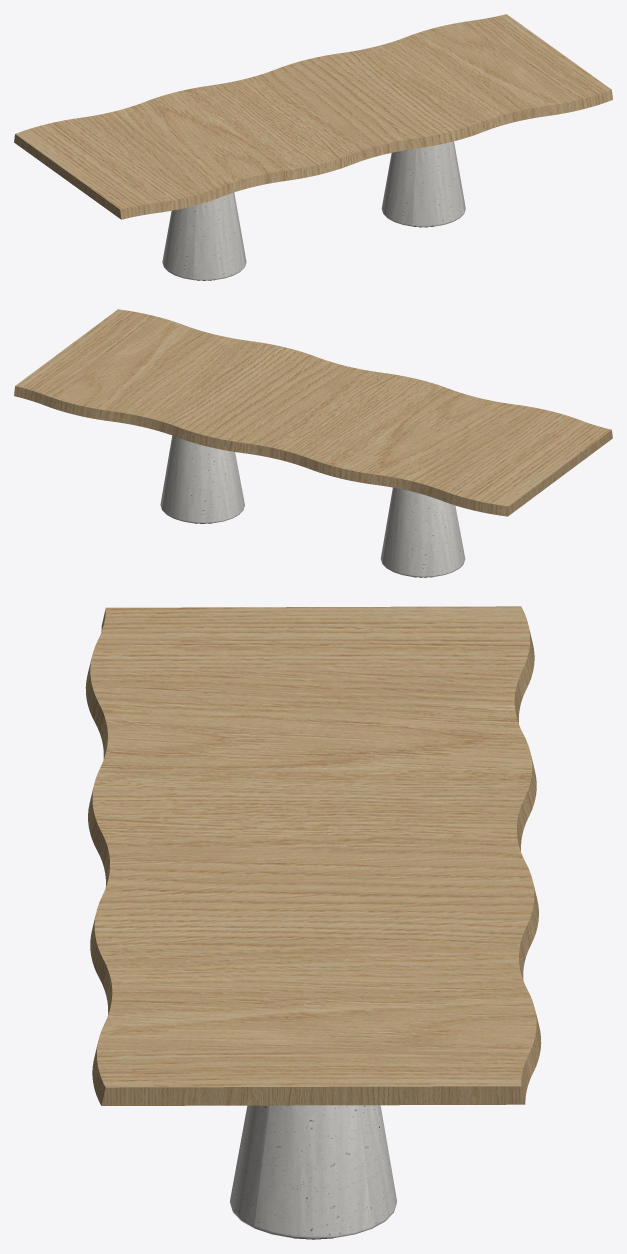
Rendered from table_hazard.glb.
3 renders of one model, top to bottom at view 1: azimuth 30°, elevation 25°; view 2: azimuth 150°, elevation 25°; view 3: azimuth 270°, elevation 25°, orthographic. The views are drawn at different scales.
Visible parts, largest first — view 1: Group1, Group4, Group2; view 2: Group1, Group2, Group4; view 3: Group1, Group4.
Boxes of the visible parts, box(x1,y1,x2,y2) form: Group1: box(14, 14, 612, 280); Group4: box(381, 141, 465, 227); Group2: box(162, 192, 246, 280); Group1: box(14, 309, 612, 577); Group2: box(380, 487, 465, 577); Group4: box(160, 435, 244, 523); Group1: box(85, 606, 541, 1239); Group4: box(230, 1105, 396, 1239).
Bounding box in the file's own units: 3 × 0.74 × 1.2.
3 materials, 2 textured.
